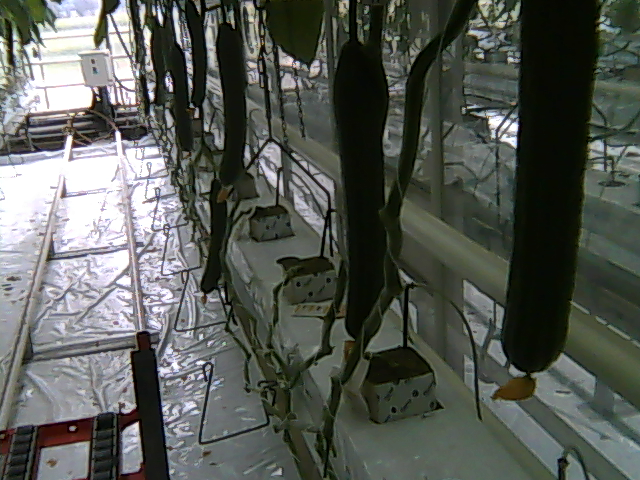concombre: (495, 1, 605, 404), (328, 26, 392, 343), (206, 10, 252, 206)
